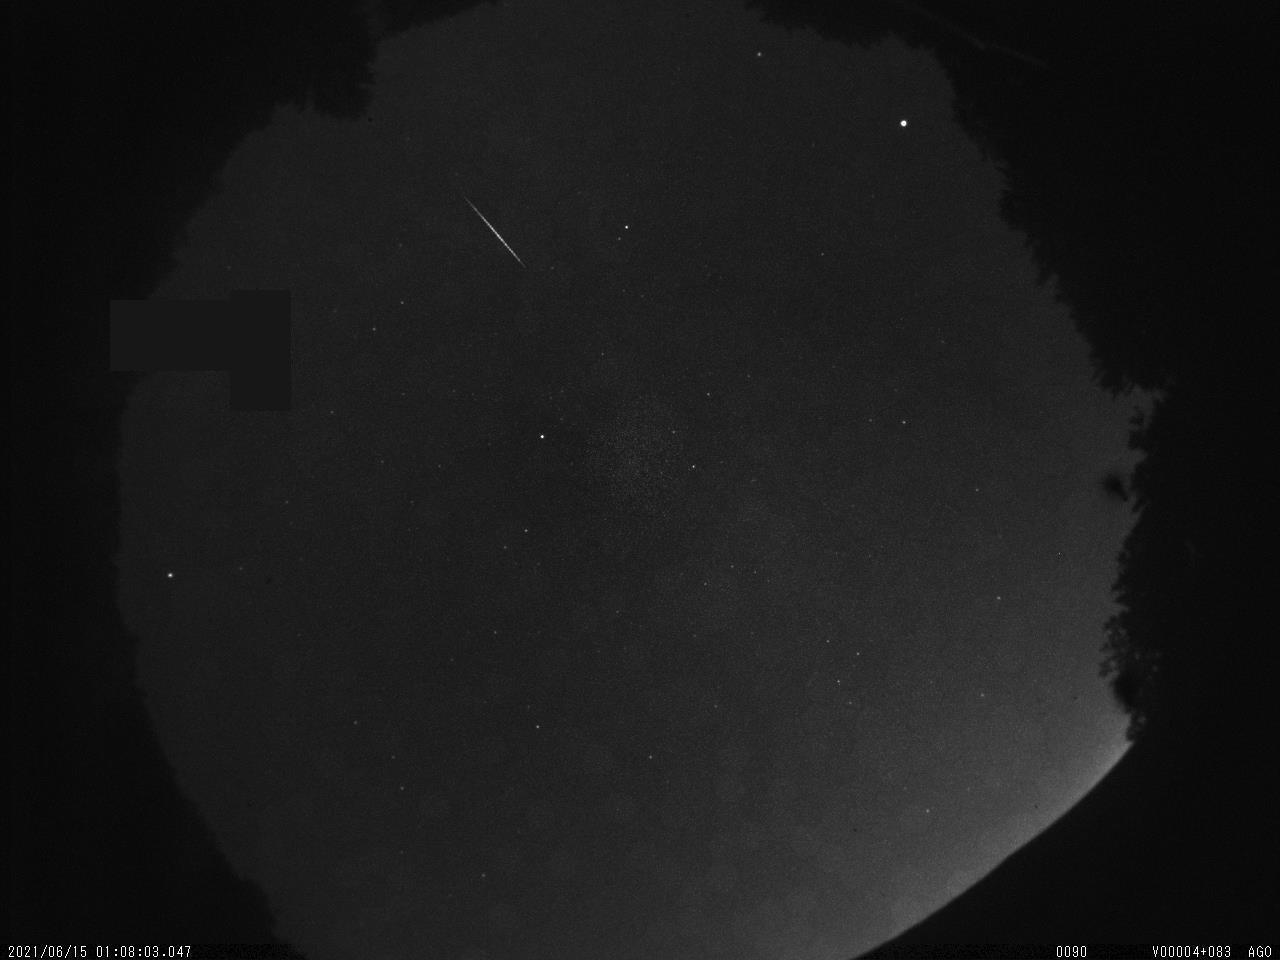Meteor: (459, 189, 527, 268)
